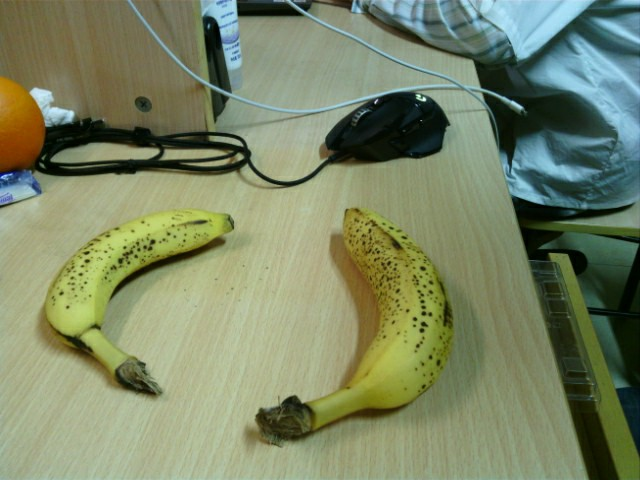normal_banana: (254, 208, 453, 444), (47, 208, 235, 401)
